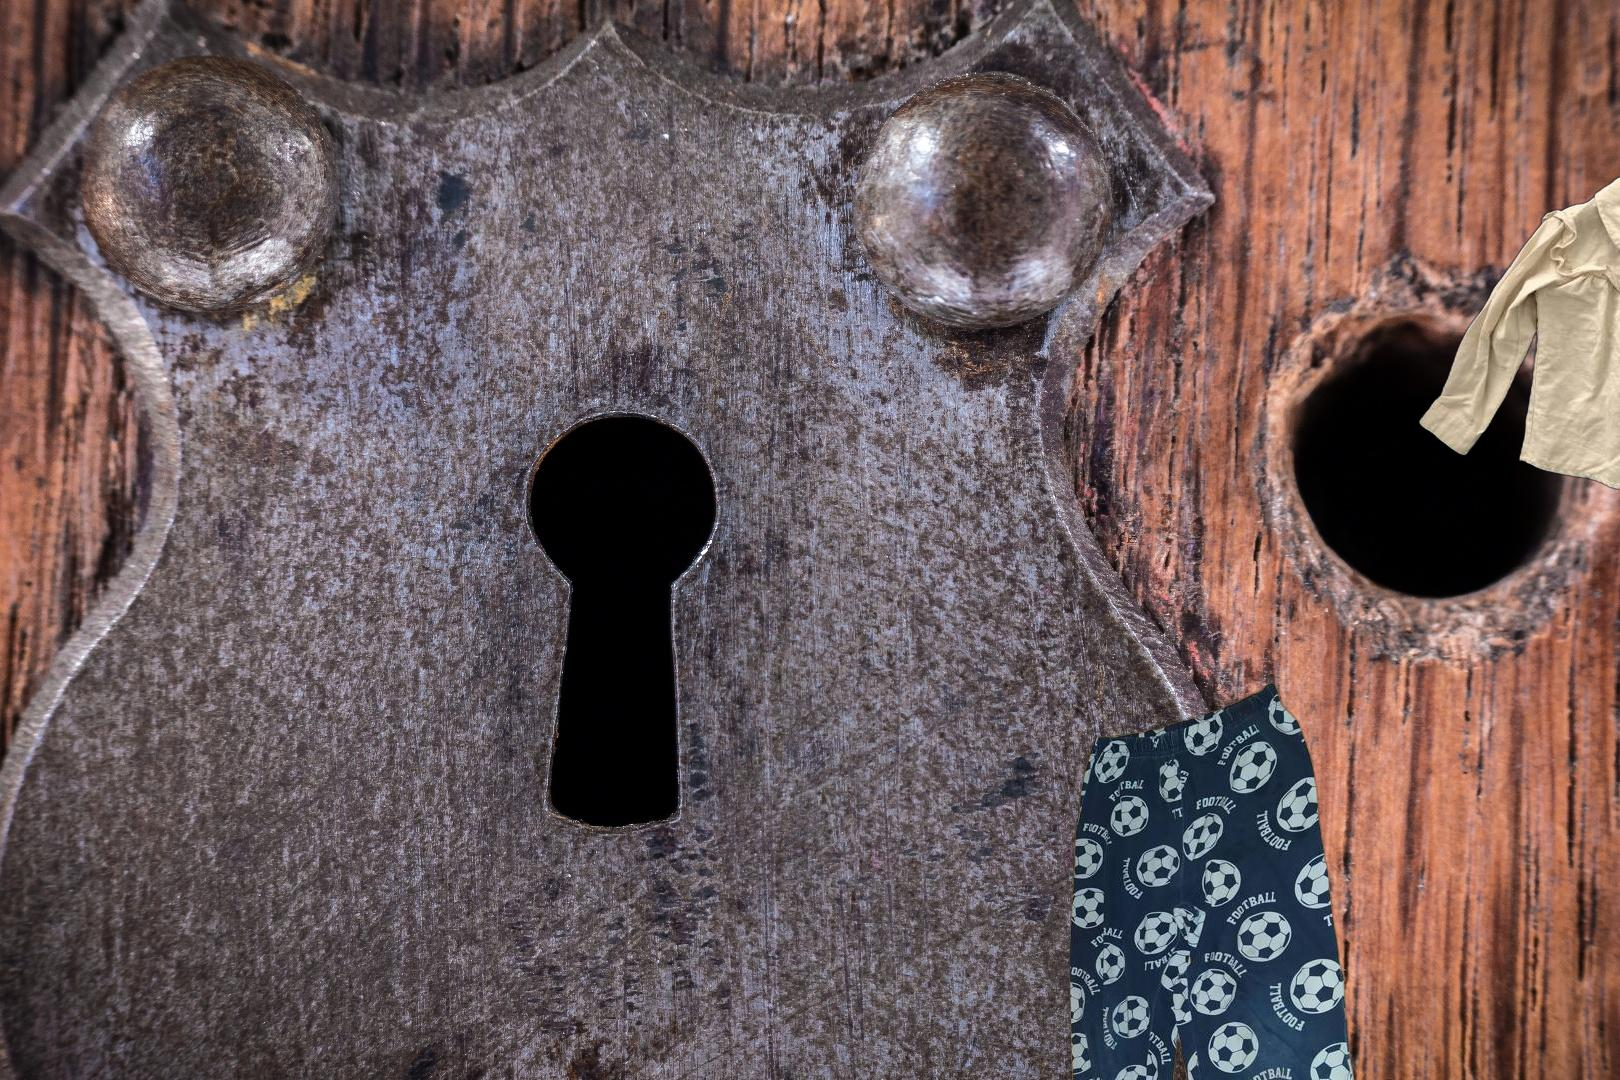clothes: (1062, 677, 1380, 1080), (1414, 118, 1620, 493)
